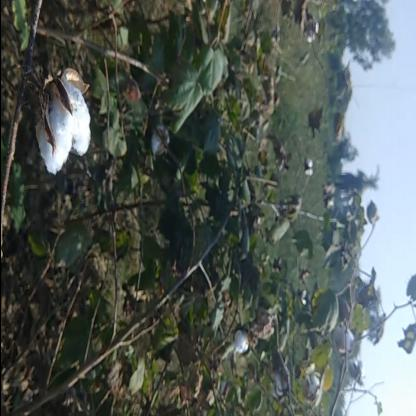cotton_ready: (28, 53, 95, 180)
